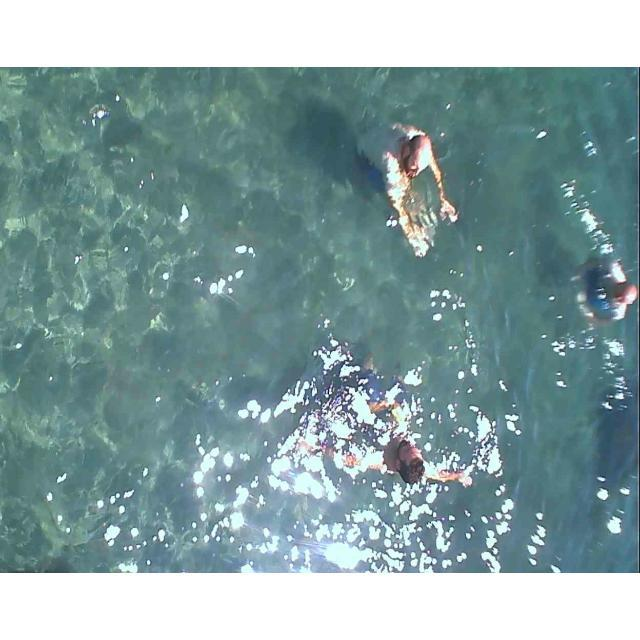human: (339, 344, 467, 496), (360, 104, 460, 269), (574, 249, 635, 328)
